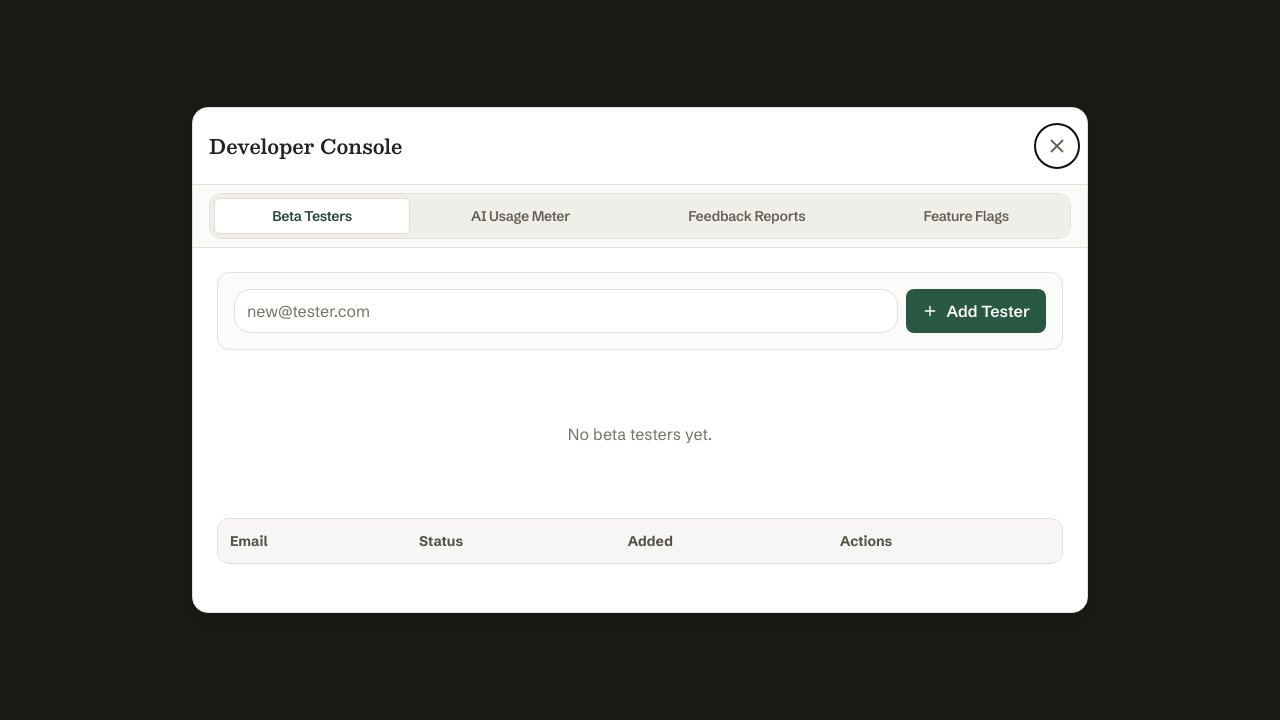
Test: DeveloperConsole › Feature Flags tab › renders all five flags with their effective ON/OFF state
Click the tab "Feature Flags" at (966, 216), box [866, 198, 1066, 234]
(page scrolled)
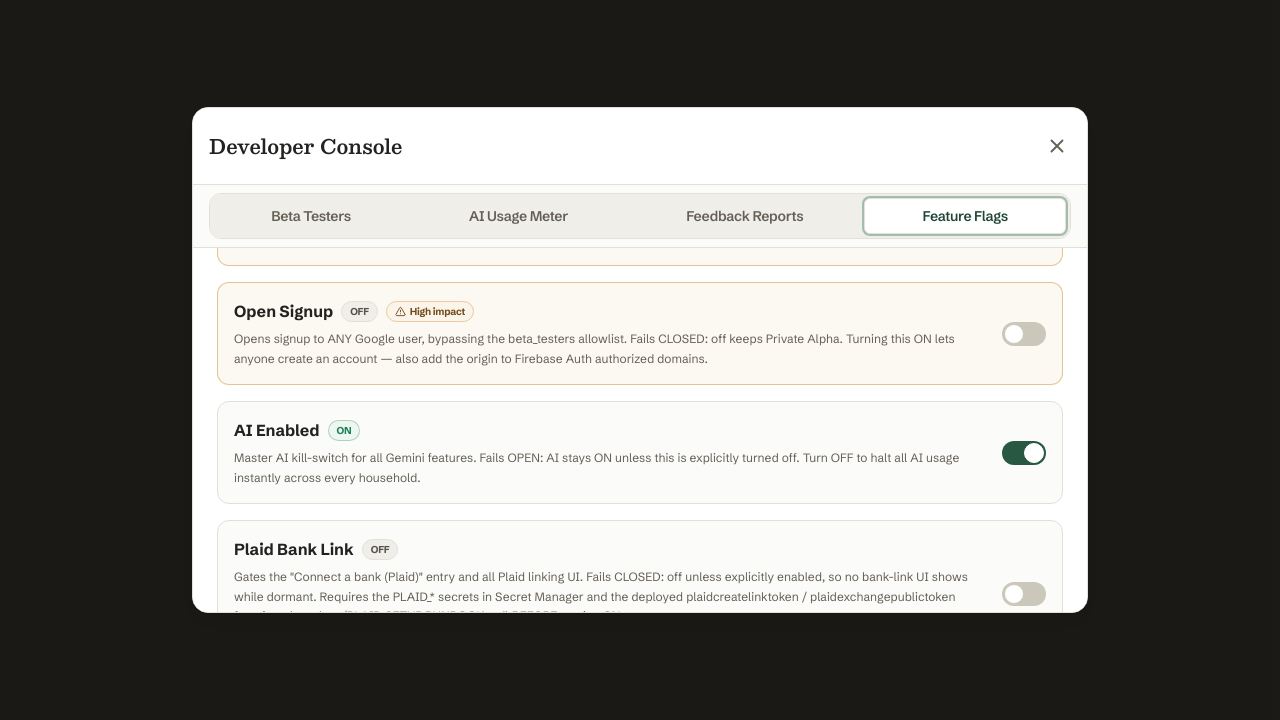
Expected: the text "OFF" next to "Open Signup" is shown, [350, 304, 369, 318]
Expected: the text "OFF" next to "Plaid Bank Link" is shown, [371, 542, 389, 556]
Expected: the text "ON" is shown, [328, 420, 360, 440]
